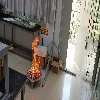fire: (29, 35, 42, 79)
